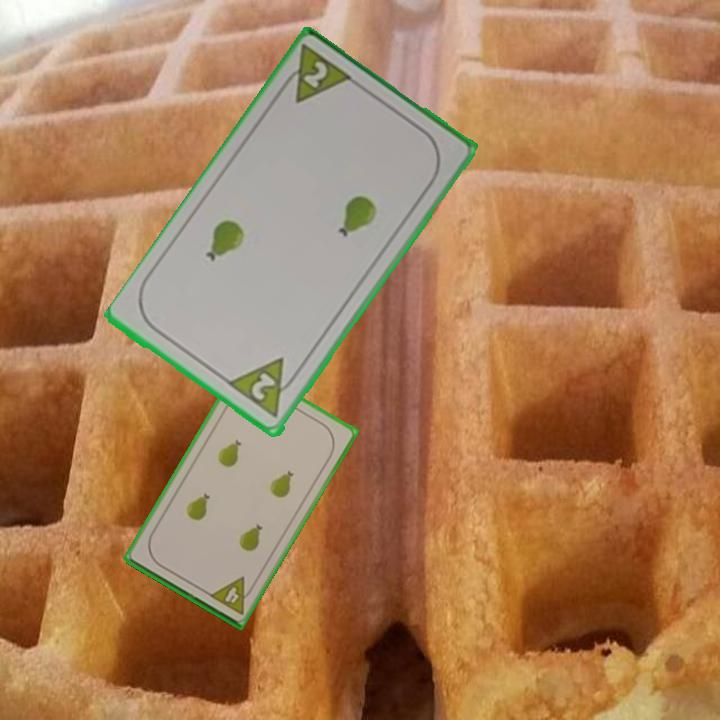2p: (274, 42, 357, 107), (247, 369, 279, 405)
4p: (205, 573, 258, 618)
